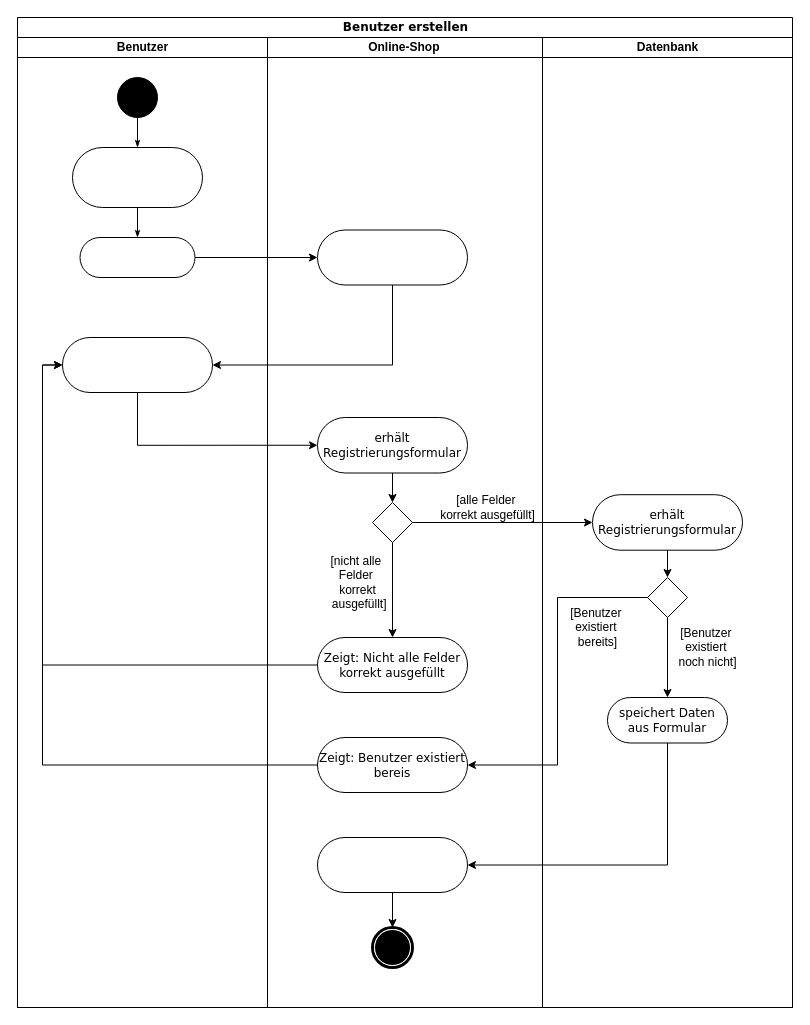
Image size: 810x1025. Some labels were removed from this diagram. Each missing label, with the centre of its shape:
füllt Registrierungsformular aus: point (137, 364)
Navigiert zu Registrierungsseite: point (137, 177)
wählt "Registrieren": point (137, 257)
zeigt Registrierungsformular an: point (392, 257)
Zeigt: Benutzer erfolgreich erstellt: point (392, 864)
